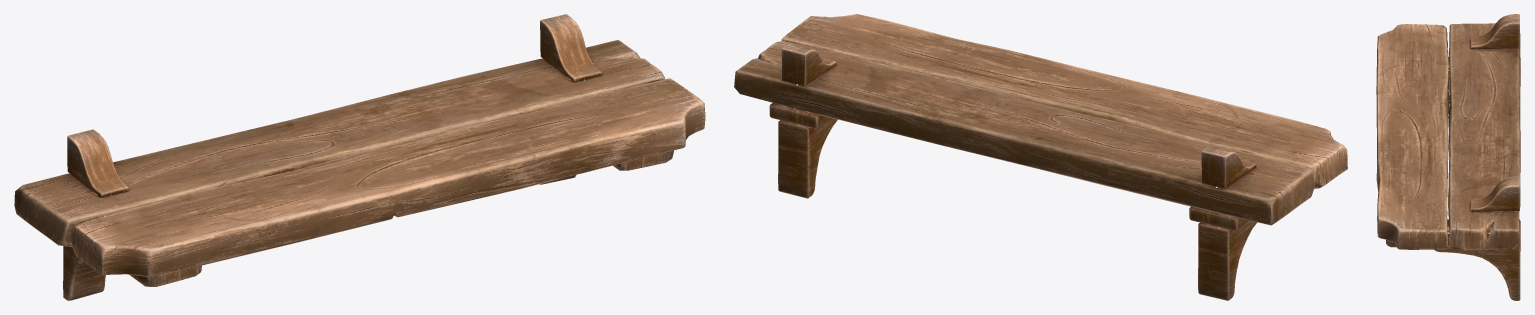
3 renders of one model, left to right at view 1: azimuth 30°, elevation 25°; view 2: azimuth 150°, elevation 25°; view 3: azimuth 270°, elevation 25°, orthographic. The views are drawn at different scales.
Visible parts, largest first — view 1: SM_Shelf_01v2_LOD0; view 2: SM_Shelf_01v2_LOD0; view 3: SM_Shelf_01v2_LOD0.
Part boxes in pixels (bbox=[...]): SM_Shelf_01v2_LOD0: bbox=[14, 14, 705, 300]; SM_Shelf_01v2_LOD0: bbox=[734, 14, 1347, 300]; SM_Shelf_01v2_LOD0: bbox=[1376, 14, 1520, 300].
Size of the model in its own units: 1.7 by 0.4337 by 0.4943.
Materials: 1 (1 with a texture image).
